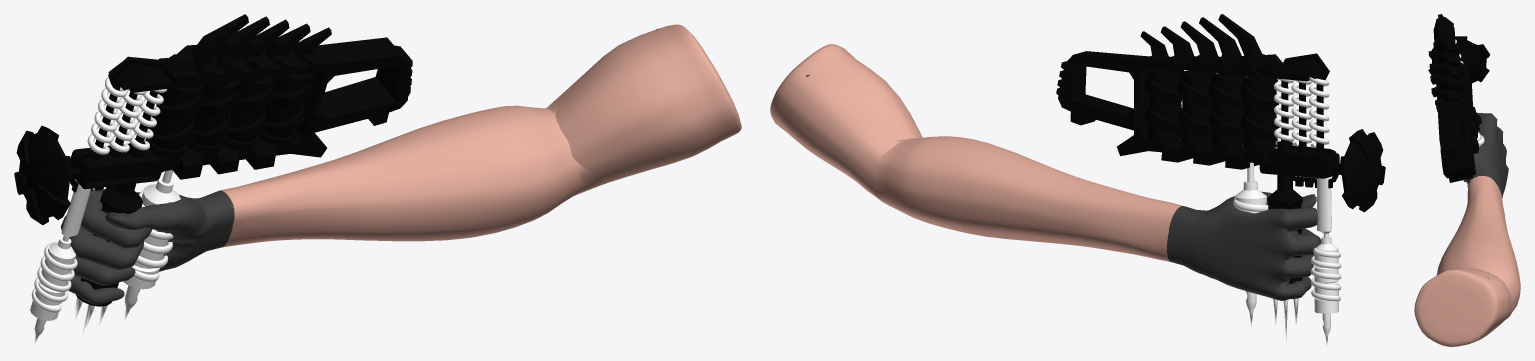
Rendered from npc_Tatgun08.fbx.
3 views of the same model, side by side, from view 1: azimuth 30°, elevation 25°; view 2: azimuth 150°, elevation 25°; view 3: azimuth 270°, elevation 25° (orthographic). The views are drawn at different scales.
Parts seen in each view (by area): view 1: tatgun08; view 2: tatgun08; view 3: tatgun08.
Part boxes in pixels (x1,y1,x2,y2): tatgun08: (14,14,741,345); tatgun08: (770,14,1385,345); tatgun08: (1414,14,1520,346).
Bounding box in the file's own units: 442 × 199 × 90.94.
Materials: 2 (1 with a texture image).
